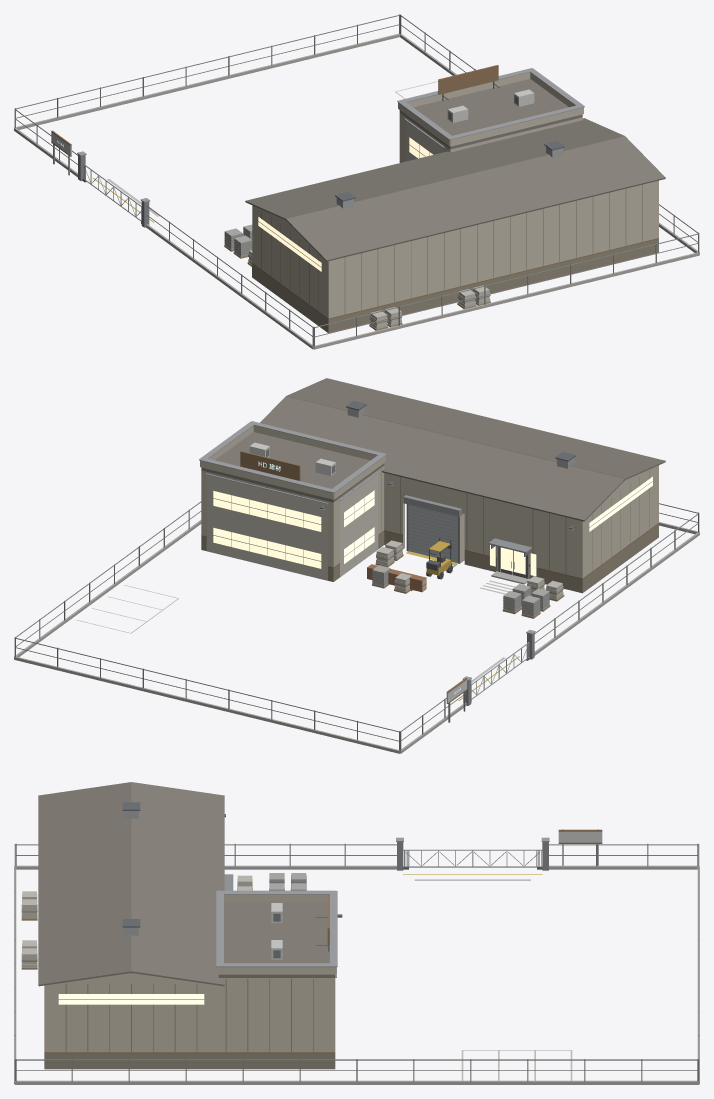
The model's file is biz_4007.glb.
3 renders of one model, top to bottom at view 1: azimuth 30°, elevation 25°; view 2: azimuth 150°, elevation 25°; view 3: azimuth 270°, elevation 25°, orthographic. The views are drawn at different scales.
Parts seen in each view (by area): view 1: Static, Windows; view 2: Static, Windows, Shutter_Down; view 3: Static, Windows, Gate_Closed.
Part boxes in pixels (left/top/right/bottom): Static: left=14, top=14, right=699, bottom=349; Windows: left=258, top=137, right=433, bottom=271; Static: left=14, top=378, right=699, bottom=753; Windows: left=213, top=476, right=652, bottom=576; Shutter_Down: left=408, top=504, right=457, bottom=562; Static: left=14, top=782, right=699, bottom=1084; Windows: left=58, top=994, right=204, bottom=1004; Gate_Closed: left=403, top=849, right=542, bottom=869.
Bounding box in the file's own units: 35.6 × 9.15 × 47.16.
